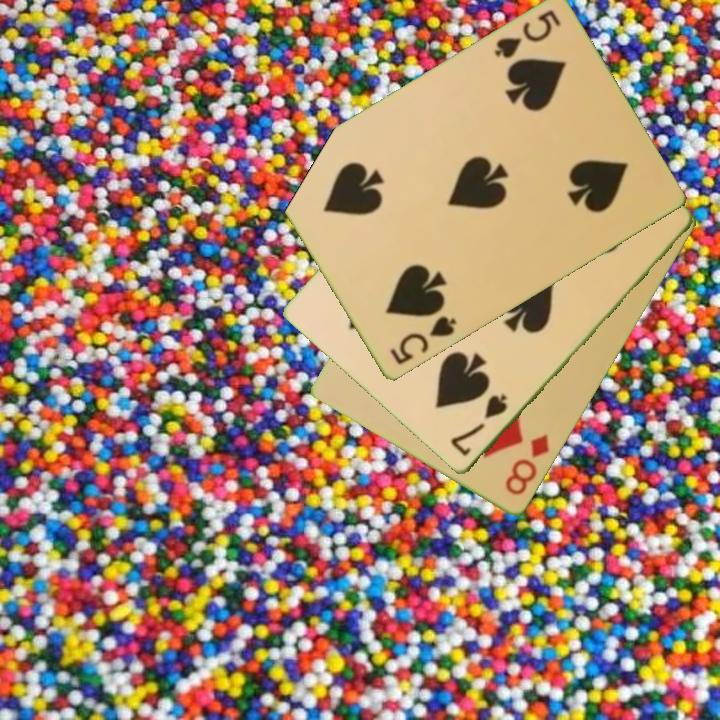5s: (490, 6, 564, 63), (386, 313, 460, 369)
7s: (447, 391, 511, 460)
8d: (501, 431, 553, 499)
